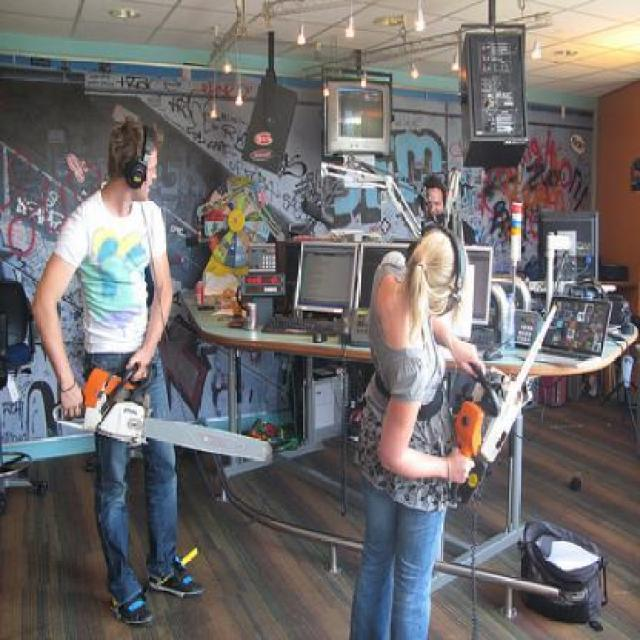Chainsaw: (49, 360, 277, 469), (454, 305, 560, 503)
